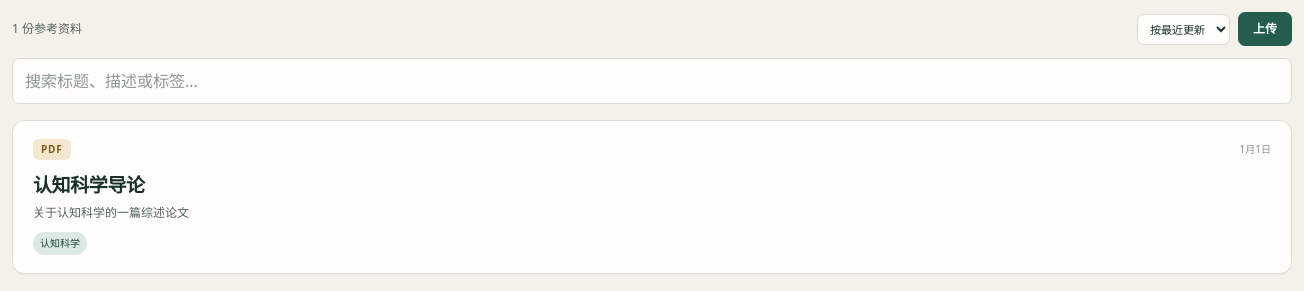
Scenario: ReferenceList › 搜索无匹配时显示无匹配文案
This screenshot has width=1304, height=291.
Type "不存在的关键词" into the field with class "search-input" at (652, 81), box [12,58,1292,104]
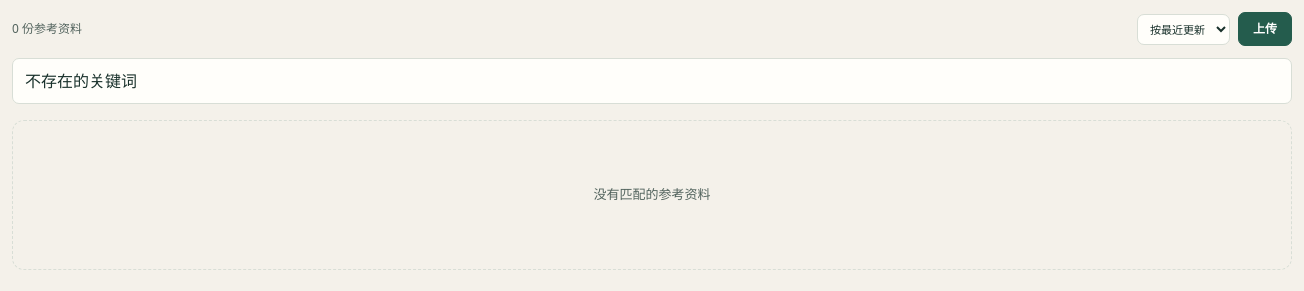
Now the element with class "empty-state" reads "没有匹配的参考资料", box [594,185,710,203]
